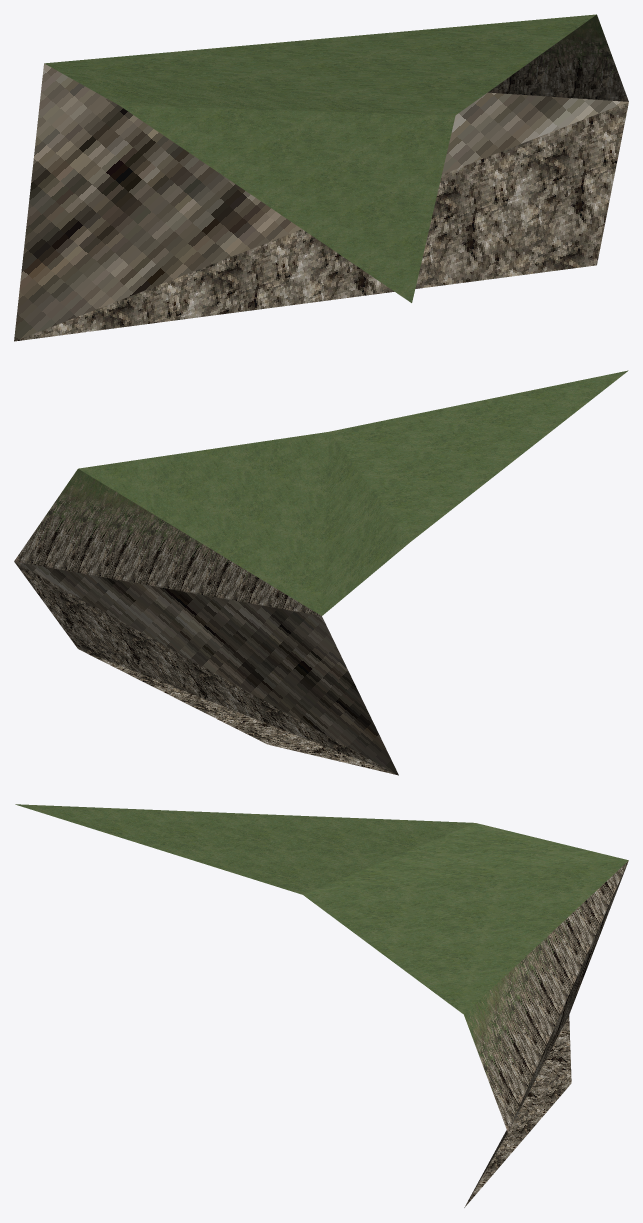
File: LODa_carisle_mid_landmass_02_05.fbx
3 renders of one model, top to bottom at view 1: azimuth 30°, elevation 25°; view 2: azimuth 150°, elevation 25°; view 3: azimuth 270°, elevation 25°, orthographic. The views are drawn at different scales.
Visible parts, largest first — view 1: LODa_carisle_mid_landmass_02_05; view 2: LODa_carisle_mid_landmass_02_05; view 3: LODa_carisle_mid_landmass_02_05.
Boxes of the visible parts, <box> form: LODa_carisle_mid_landmass_02_05: <box>14,14,628,341</box>; LODa_carisle_mid_landmass_02_05: <box>14,370,628,775</box>; LODa_carisle_mid_landmass_02_05: <box>15,804,628,1207</box>.
Bounding box in the file's own units: 25.85 × 30.93 × 12.51.
